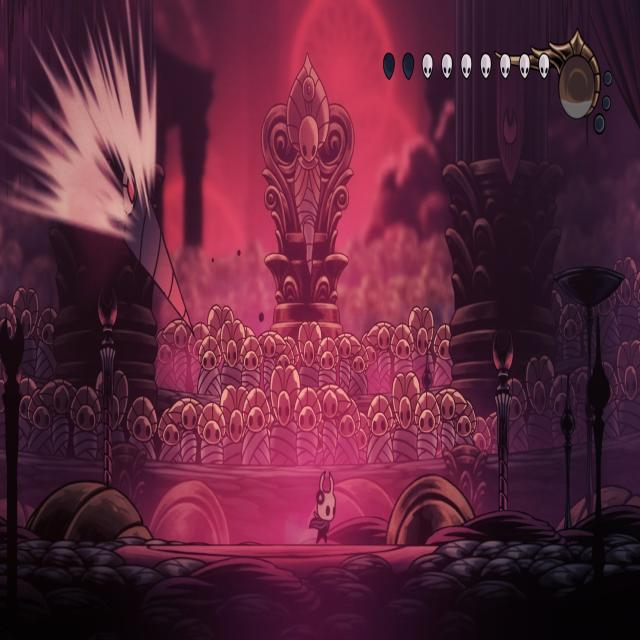Dive Dash: (92, 132, 200, 344)
Player: (308, 466, 337, 546)
